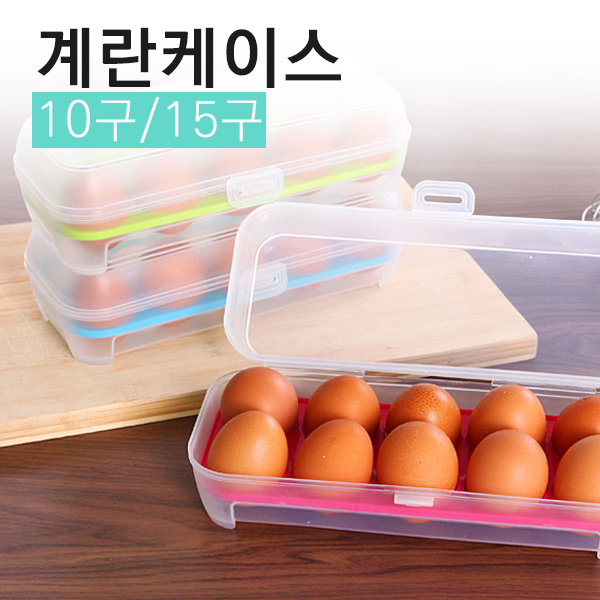egg: (206, 361, 600, 513)
